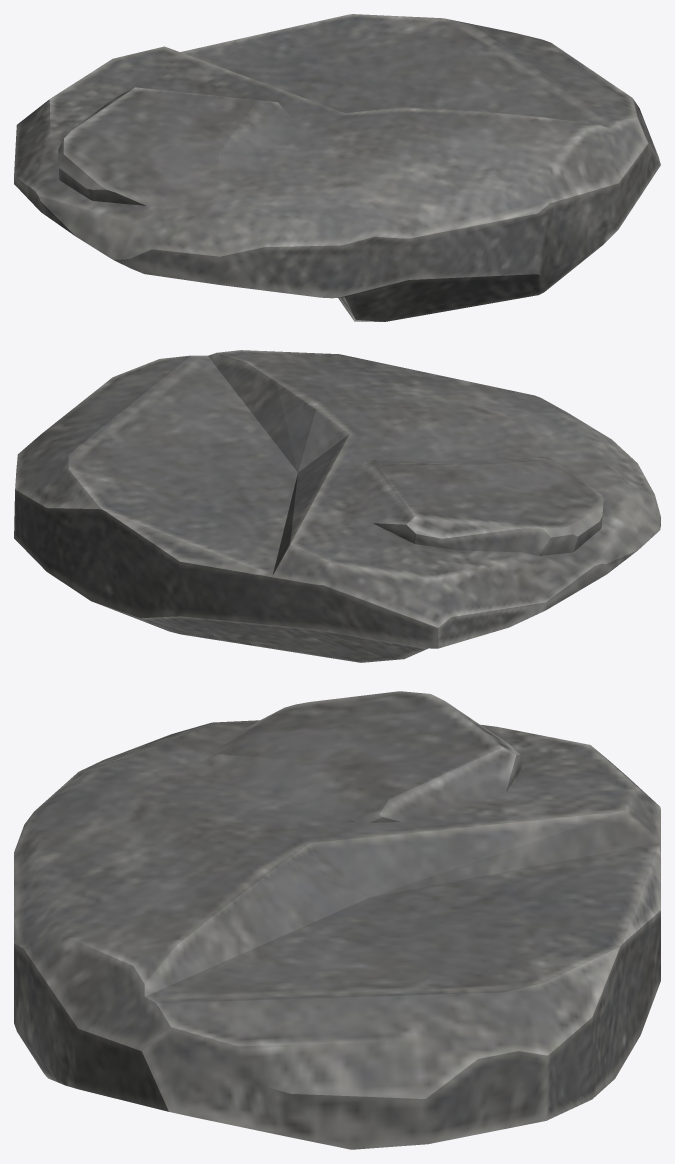
The model's file is Rock07_Dream.glb.
The picture shows the model from 3 angles, top to bottom: view 1: azimuth 30°, elevation 25°; view 2: azimuth 150°, elevation 25°; view 3: azimuth 270°, elevation 25°; orthographic projection. The views are drawn at different scales.
Visible parts, largest first — view 1: rock07_dream; view 2: rock07_dream; view 3: rock07_dream.
Boxes of the visible parts, x1,y1,x2,y2 form: rock07_dream: [14, 14, 660, 321]; rock07_dream: [14, 350, 660, 662]; rock07_dream: [14, 691, 660, 1149].
Size of the model in its own units: 0.7711 by 0.1798 by 0.5886.
Materials: 1 (1 with a texture image).
